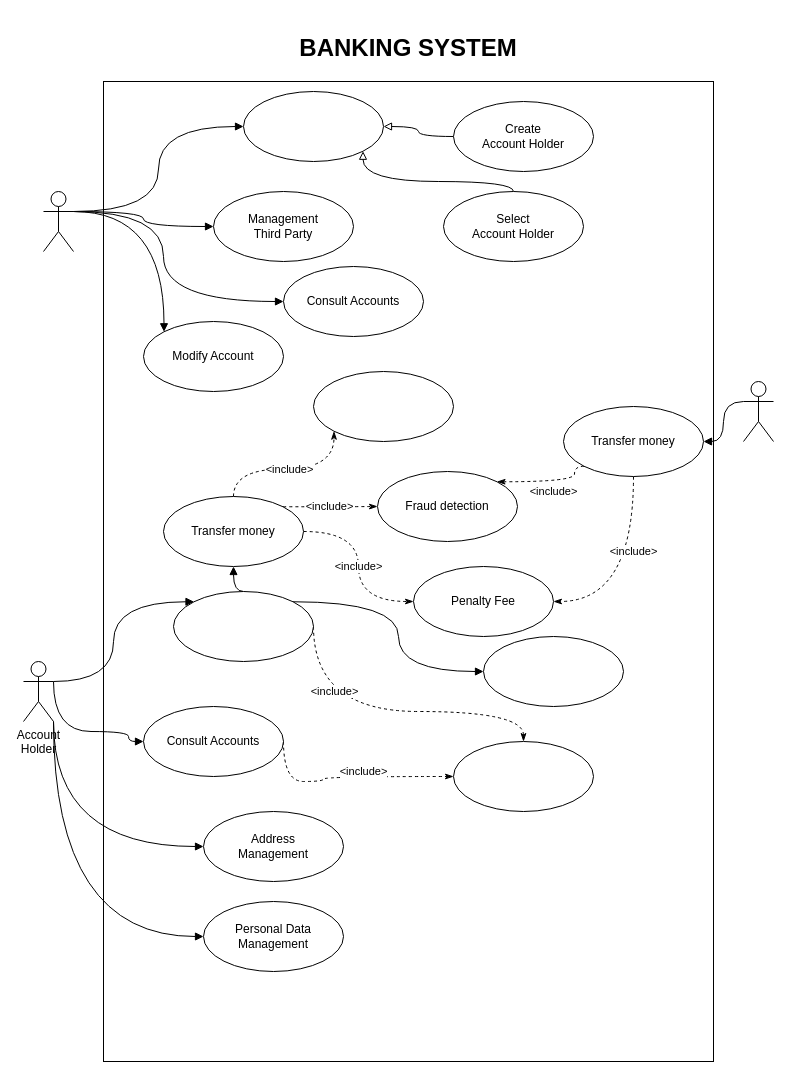
Some shapes in this 791 by 1079 pixel diagram are drawn without their labels. Each missing label, with the box of its shape:
Access Account by Holder: (172, 590, 314, 662)
Admin: (42, 190, 74, 252)
Consult Movements: (482, 636, 624, 706)
Create Account: (242, 90, 384, 162)
Interest Rate: (452, 740, 594, 812)
Third Party: (742, 380, 774, 442)
Verify founds: (312, 370, 454, 442)
